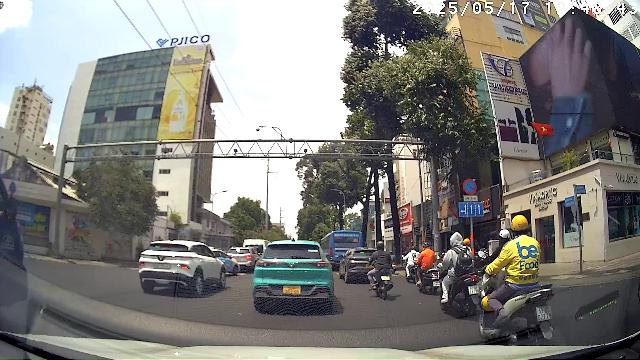131a-cam-do-xe: (463, 178, 477, 195)
